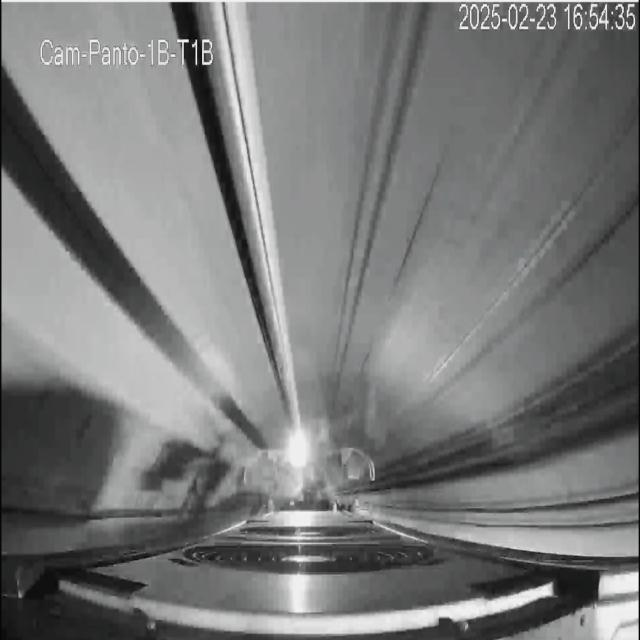Camera Stamp: (40, 33, 216, 69)
Date Stamp: (457, 3, 635, 33)
Sparks: (281, 422, 313, 476)
